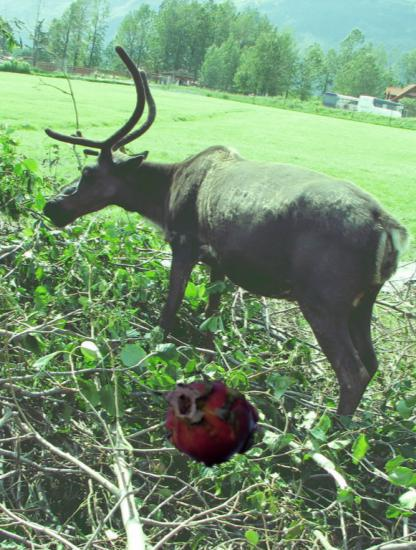Pitahaya: (145, 360, 265, 480)
